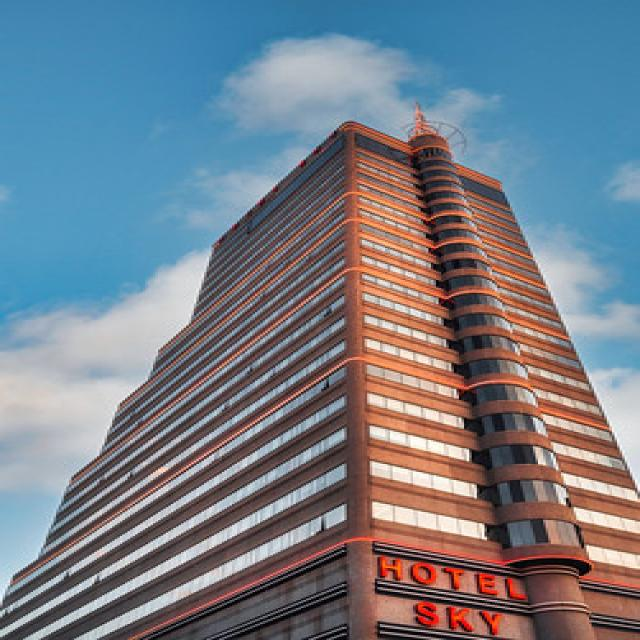building: (8, 101, 638, 640)
